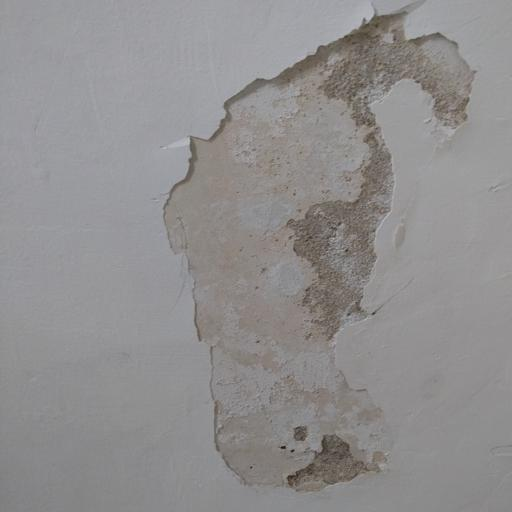peeling: (146, 3, 485, 495)
